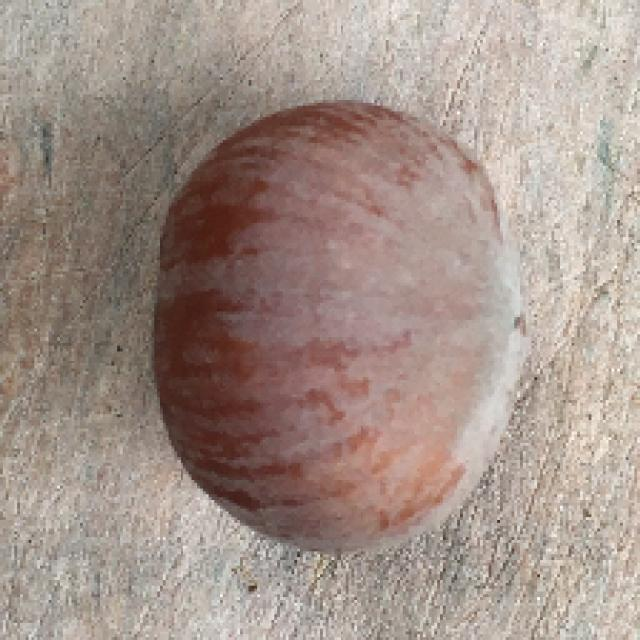qualityHazelnut: (149, 97, 535, 560)
